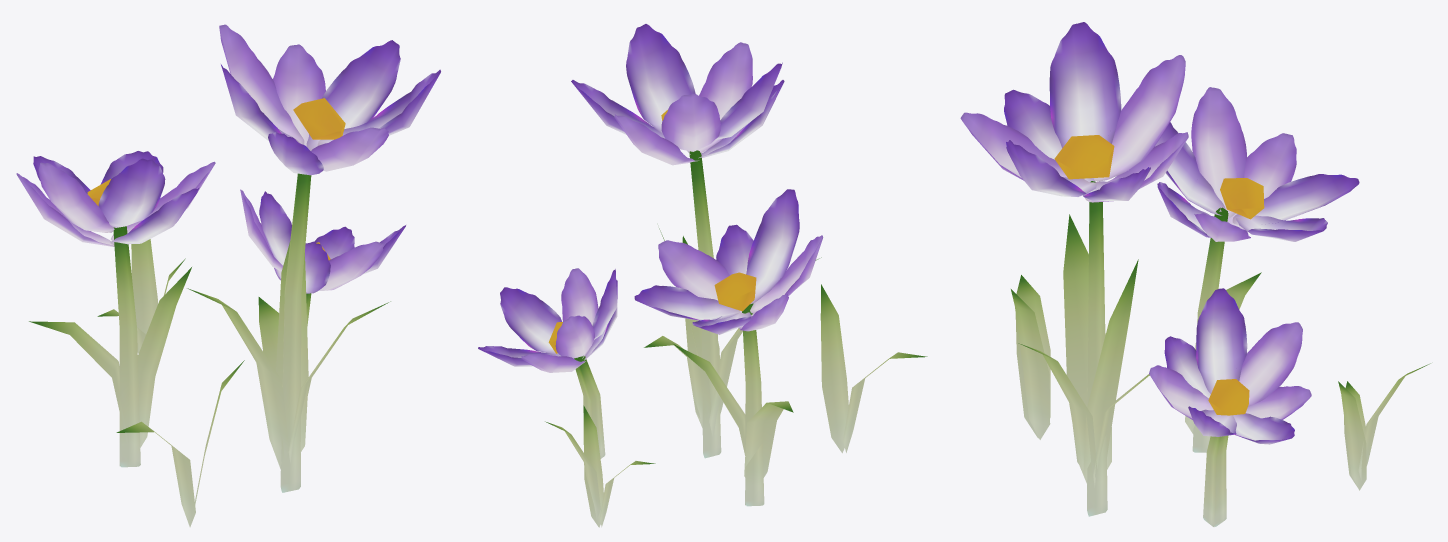
Rendered from P_FlowerCrocus01.obj.
3 views of the same model, side by side, from view 1: azimuth 30°, elevation 25°; view 2: azimuth 150°, elevation 25°; view 3: azimuth 270°, elevation 25° (orthographic). The views are drawn at different scales.
Bounding box in the file's own units: 0.6644 × 0.7476 × 0.697.
